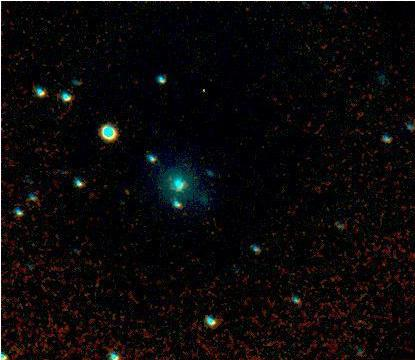star: (113, 175, 143, 205)
